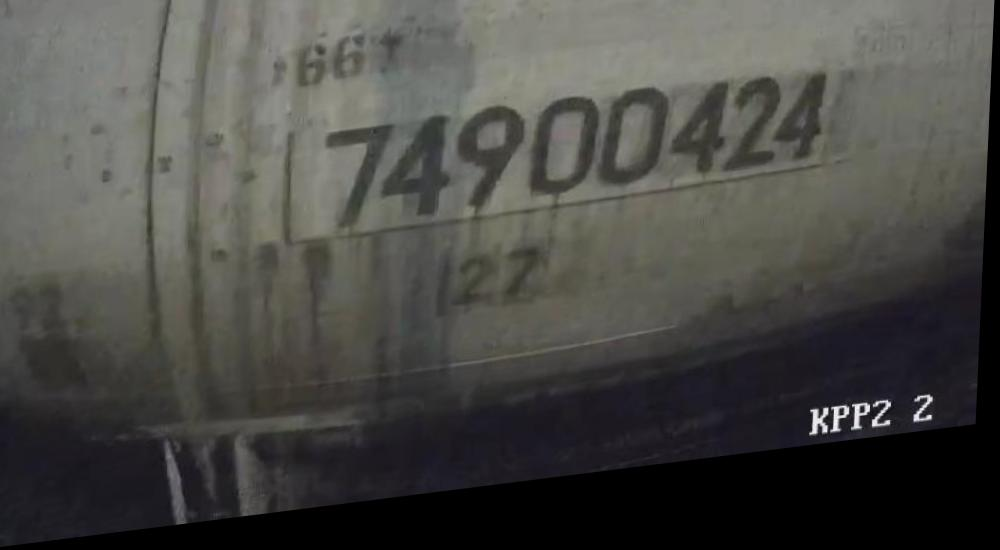Wagon-number: (311, 84, 834, 247)
